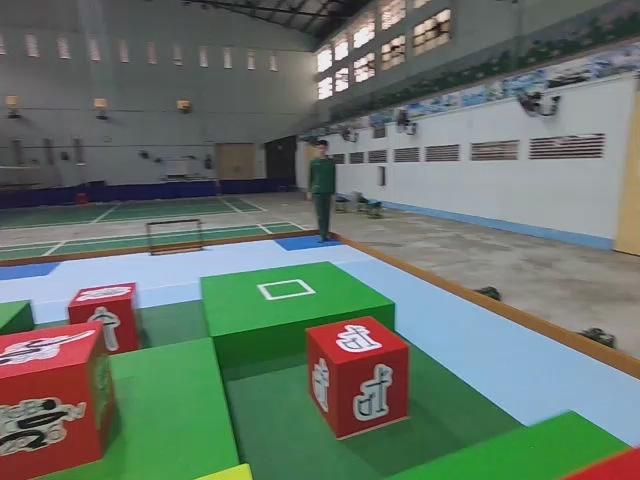R1: (1, 321, 115, 480)
R2 Real: (305, 317, 409, 440)
